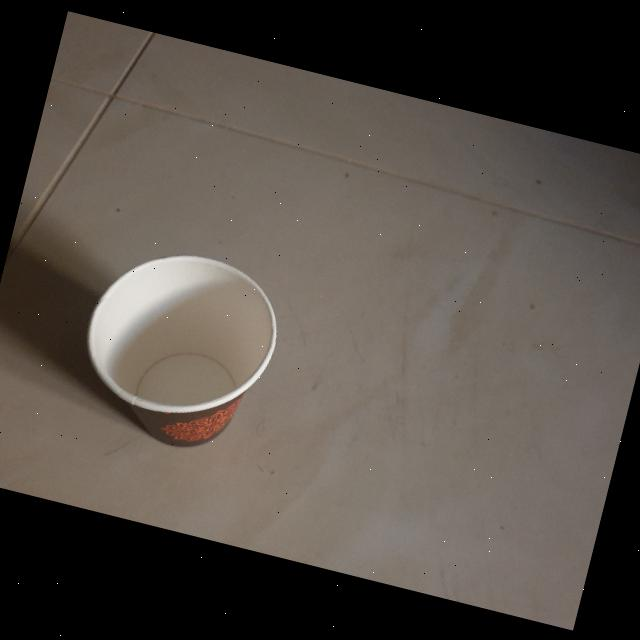trash: (52, 220, 308, 478)
